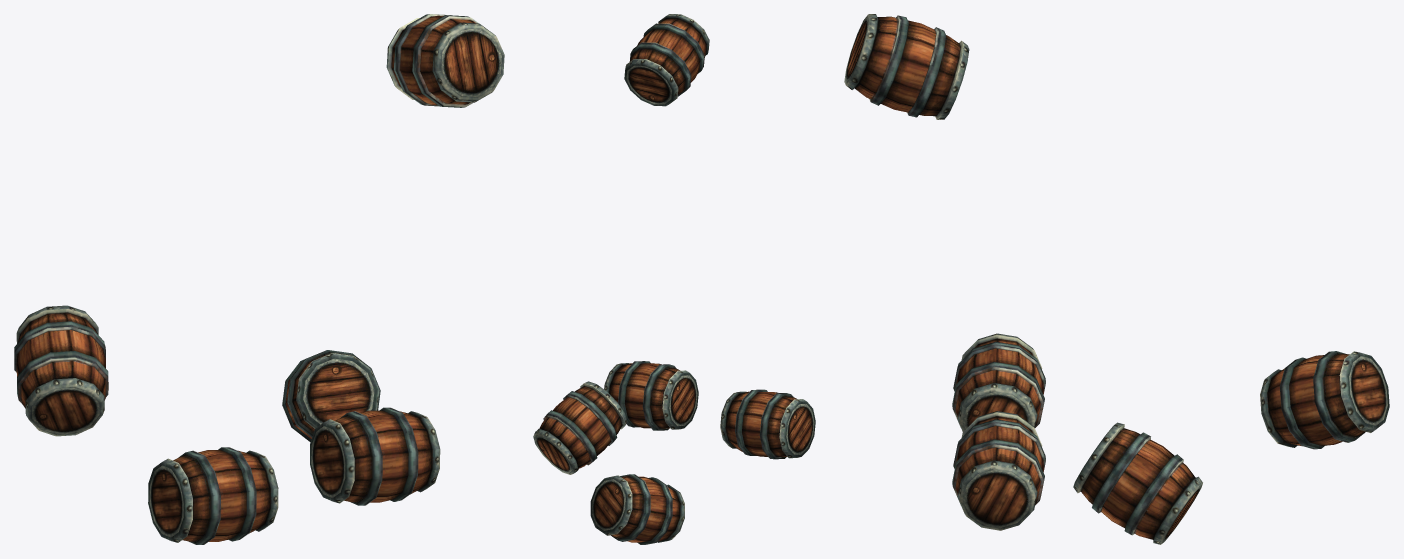
File: PUSH7_BARRELS.fbx
3 renders of one model, left to right at view 1: azimuth 30°, elevation 25°; view 2: azimuth 150°, elevation 25°; view 3: azimuth 270°, elevation 25°, orthographic. The views are drawn at different scales.
Visible parts, largest first — view 1: PUSH7_BARRELS; view 2: PUSH7_BARRELS; view 3: PUSH7_BARRELS.
Boxes of the visible parts, x1,y1,x2,y2 form: PUSH7_BARRELS: [14, 14, 504, 544]; PUSH7_BARRELS: [533, 14, 815, 544]; PUSH7_BARRELS: [844, 14, 1389, 544].
Size of the model in its own units: 27213 by 48190 by 46010.
Materials: 2 (2 with a texture image).
